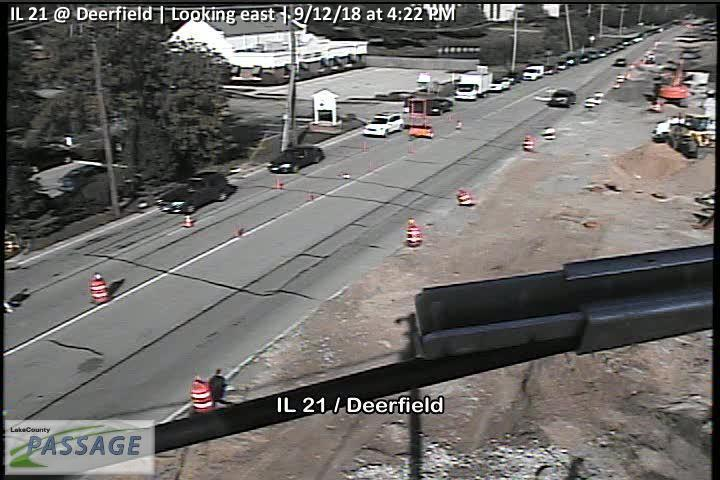SUV: (364, 110, 404, 138)
Sedan: (155, 170, 230, 213), (265, 145, 323, 175)
